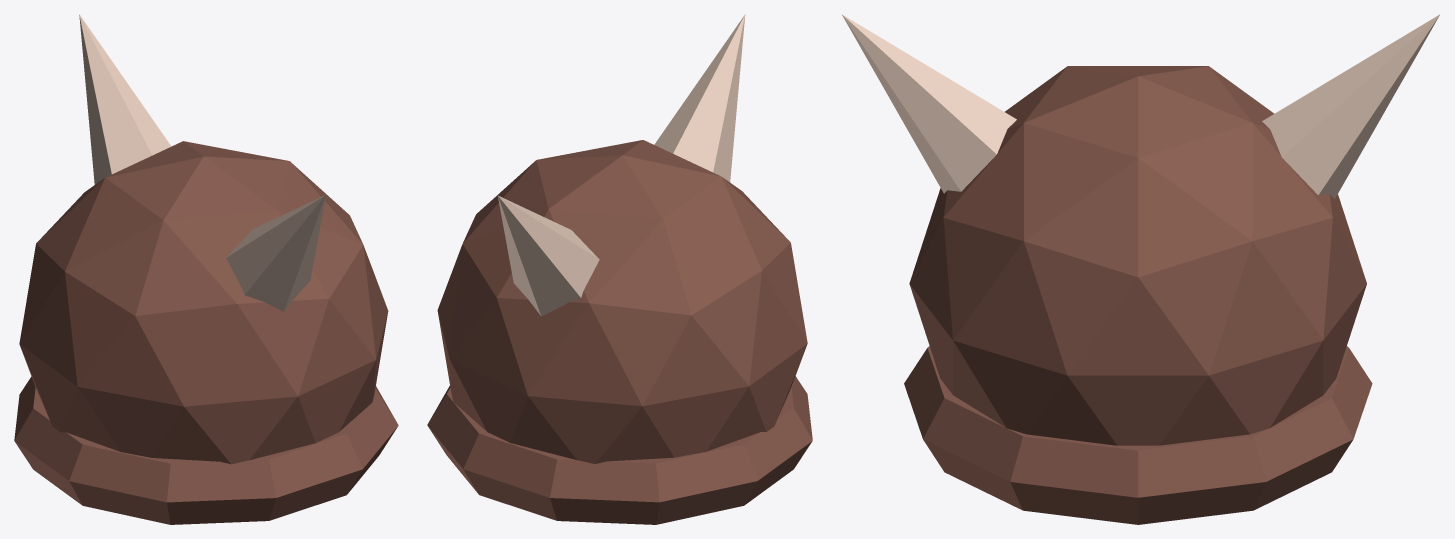
Rendered from GiantHensonHat.fbx.
3 renders of one model, left to right at view 1: azimuth 30°, elevation 25°; view 2: azimuth 150°, elevation 25°; view 3: azimuth 270°, elevation 25°, orthographic. The views are drawn at different scales.
Parts seen in each view (by area): view 1: Torus; view 2: Torus; view 3: Torus.
Boxes of the visible parts, box(x1,y1,x2,y2) form: Torus: box(14, 14, 398, 524); Torus: box(427, 14, 812, 524); Torus: box(842, 14, 1439, 524).
Size of the model in its own units: 268 by 305 by 347.
